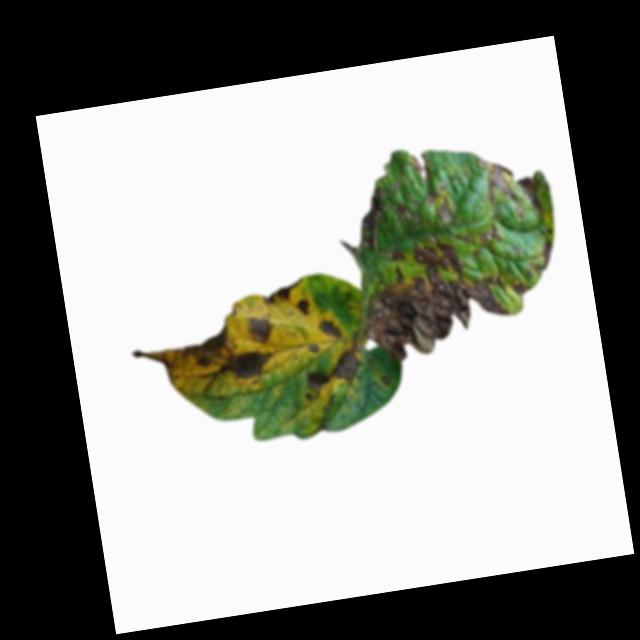Early_blight: (353, 226, 519, 365), (129, 320, 276, 404), (298, 344, 368, 403), (352, 186, 394, 249), (477, 153, 519, 206), (522, 225, 559, 278), (424, 184, 460, 231), (517, 174, 549, 220), (260, 277, 309, 307), (244, 310, 275, 346), (392, 194, 420, 227), (315, 314, 344, 343), (409, 151, 432, 183), (512, 279, 534, 297), (379, 371, 395, 392), (294, 296, 310, 316), (306, 342, 319, 354)
